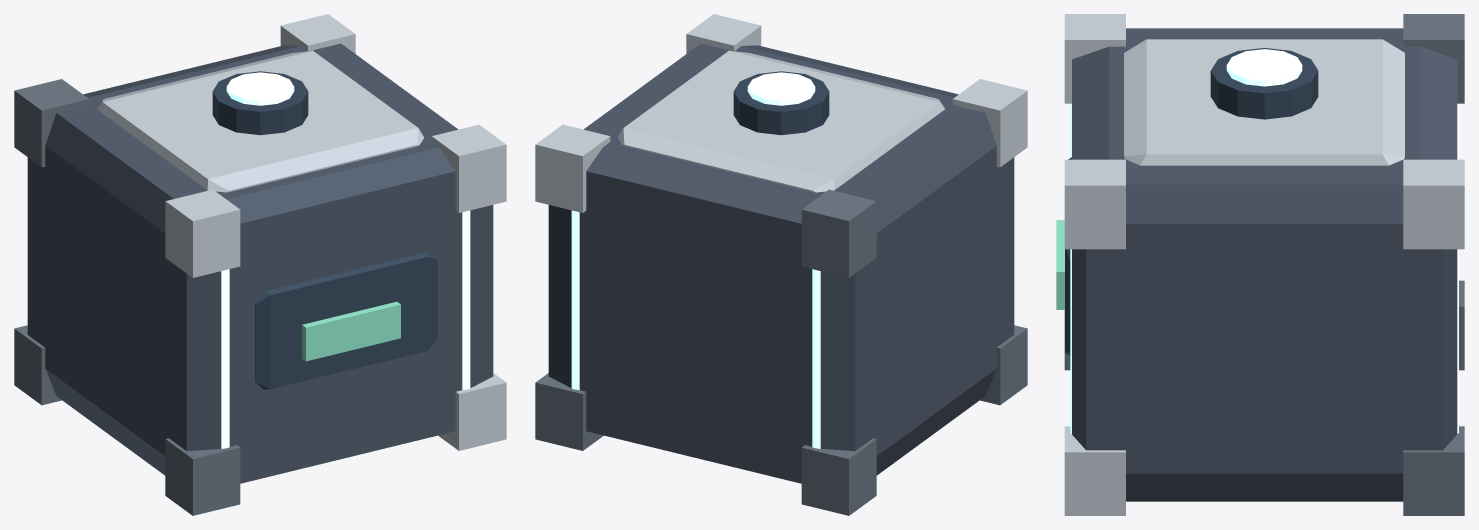
Rendered from box_repair.glb.
3 renders of one model, left to right at view 1: azimuth 30°, elevation 25°; view 2: azimuth 150°, elevation 25°; view 3: azimuth 270°, elevation 25°, orthographic. The views are drawn at different scales.
Parts seen in each view (by area): view 1: sci_fi_chassis, reinforced_lid, front_interface_armor, outer_corner_joint_011, outer_corner_joint_010, outer_corner_joint_111, front_hologram_window, outer_corner_joint_001, top_lock, outer_corner_joint_110, outer_corner_joint_000, outer_corner_joint_101 (+3 smaller); view 2: sci_fi_chassis, reinforced_lid, outer_corner_joint_001, outer_corner_joint_000, outer_corner_joint_101, outer_corner_joint_011, top_lock, outer_corner_joint_100, outer_corner_joint_010, outer_corner_joint_111, top_lock_energy, vert_front_rear_1-1 (+1 smaller); view 3: sci_fi_chassis, reinforced_lid, outer_corner_joint_101, outer_corner_joint_111, top_lock, outer_corner_joint_110, outer_corner_joint_100, outer_corner_joint_011, outer_corner_joint_001, top_lock_energy, front_hologram_window, front_interface_armor (+1 smaller).
Part boxes in pixels (x1,y1,x2,y2): sci_fi_chassis: (27, 43, 493, 483); reinforced_lid: (97, 50, 424, 192); front_interface_armor: (255, 251, 437, 389); outer_corner_joint_011: (165, 189, 240, 277); outer_corner_joint_010: (165, 438, 240, 515); outer_corner_joint_111: (431, 124, 506, 212); front_hologram_window: (302, 301, 400, 361); outer_corner_joint_001: (14, 79, 89, 167); top_lock: (212, 71, 308, 135); outer_corner_joint_110: (438, 373, 506, 450); outer_corner_joint_000: (14, 325, 61, 405); outer_corner_joint_101: (280, 14, 355, 53); sci_fi_chassis: (548, 43, 1014, 483); reinforced_lid: (617, 50, 944, 192); outer_corner_joint_001: (801, 189, 876, 277); outer_corner_joint_000: (801, 438, 876, 515); outer_corner_joint_101: (535, 124, 610, 212); outer_corner_joint_011: (952, 79, 1027, 167); top_lock: (733, 71, 829, 135); outer_corner_joint_100: (535, 373, 603, 450); outer_corner_joint_010: (980, 325, 1027, 405); outer_corner_joint_111: (686, 14, 761, 53); top_lock_energy: (747, 72, 815, 105); vert_front_rear_1-1: (571, 210, 579, 390); sci_fi_chassis: (1072, 28, 1457, 501); reinforced_lid: (1124, 39, 1404, 165); outer_corner_joint_101: (1403, 159, 1464, 249); outer_corner_joint_111: (1064, 159, 1125, 249); top_lock: (1210, 48, 1318, 119); outer_corner_joint_110: (1064, 426, 1125, 515); outer_corner_joint_100: (1403, 426, 1464, 515); outer_corner_joint_011: (1064, 14, 1125, 103); outer_corner_joint_001: (1403, 14, 1464, 103); top_lock_energy: (1226, 49, 1302, 86); front_hologram_window: (1056, 220, 1064, 309); front_interface_armor: (1065, 157, 1071, 355).
Bounding box in the file's own units: 1.39 × 1.38 × 1.39.
